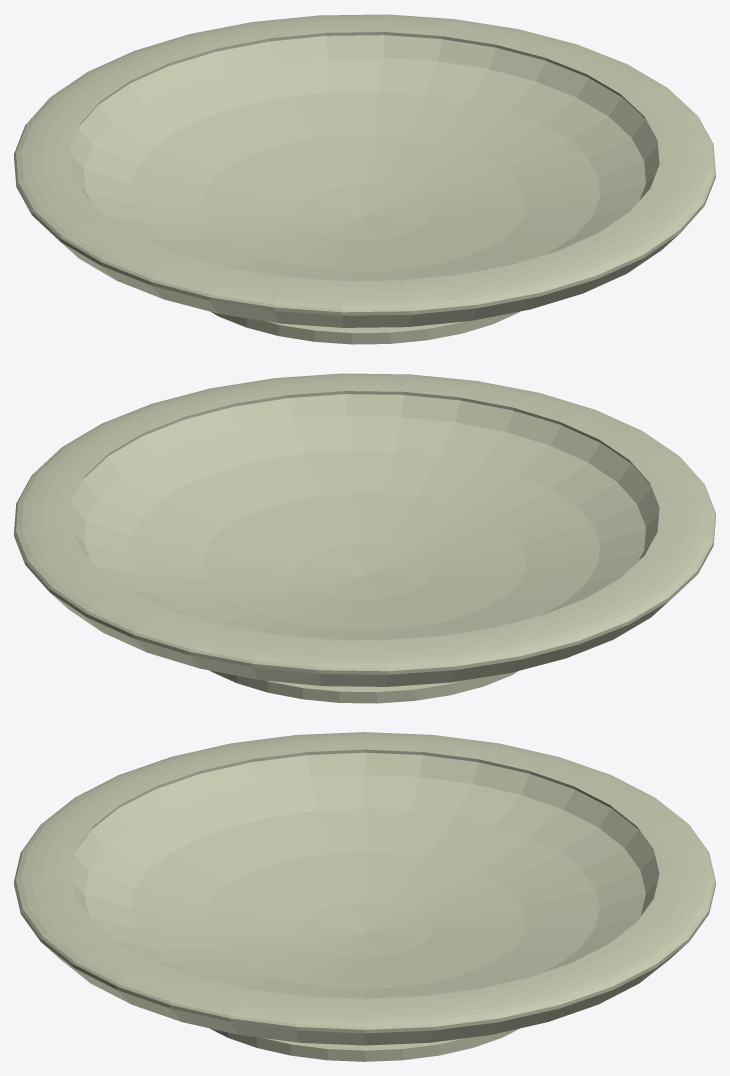
The model's file is Prato2.fbx.
3 renders of one model, top to bottom at view 1: azimuth 30°, elevation 25°; view 2: azimuth 150°, elevation 25°; view 3: azimuth 270°, elevation 25°, orthographic.
Parts seen in each view (by area): view 1: Cylinder.029; view 2: Cylinder.029; view 3: Cylinder.029.
Part boxes in pixels (x1,y1,x2,y2): Cylinder.029: (14, 14, 715, 344); Cylinder.029: (14, 373, 715, 703); Cylinder.029: (14, 732, 715, 1061).
Bounding box in the file's own units: 200 × 33.28 × 200.
